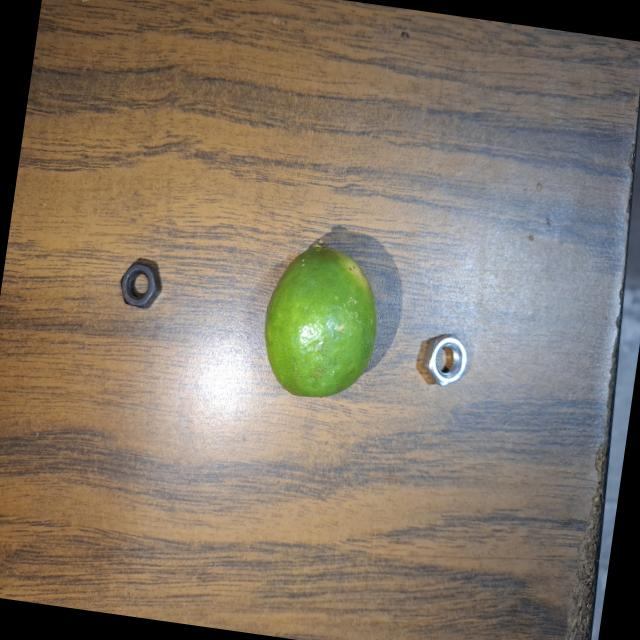limon: (248, 213, 398, 420)
milimetrico: (103, 246, 175, 329)
tuerca: (410, 316, 482, 402)
